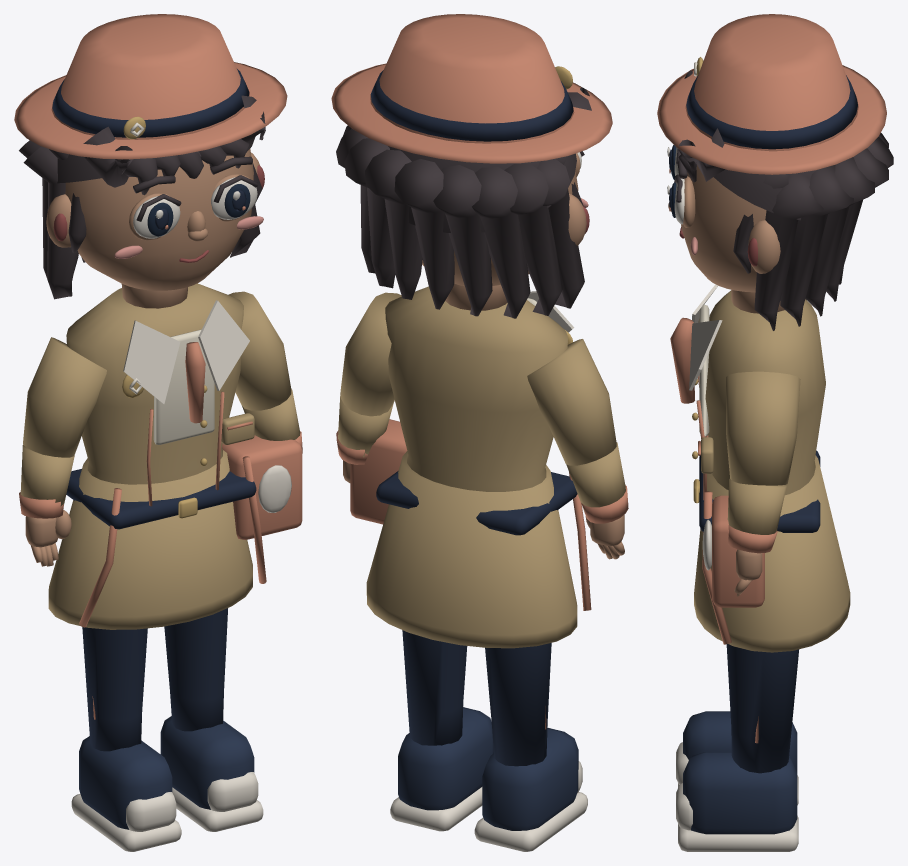
The model's file is npc_pirateshore_trainer_3.glb.
3 renders of one model, left to right at view 1: azimuth 30°, elevation 25°; view 2: azimuth 150°, elevation 25°; view 3: azimuth 270°, elevation 25°, orthographic. The views are drawn at different scales.
Parts seen in each view (by area): view 1: figure.044; view 2: figure.044; view 3: figure.044.
Part boxes in pixels (bbox=[...]): figure.044: bbox=[14, 14, 302, 851]; figure.044: bbox=[331, 14, 628, 851]; figure.044: bbox=[657, 14, 893, 851].
Bounding box in the file's own units: 0.5553 × 1.48 × 0.4069.
